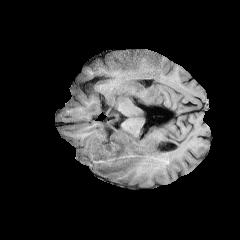glioma: (87, 132, 142, 175)
